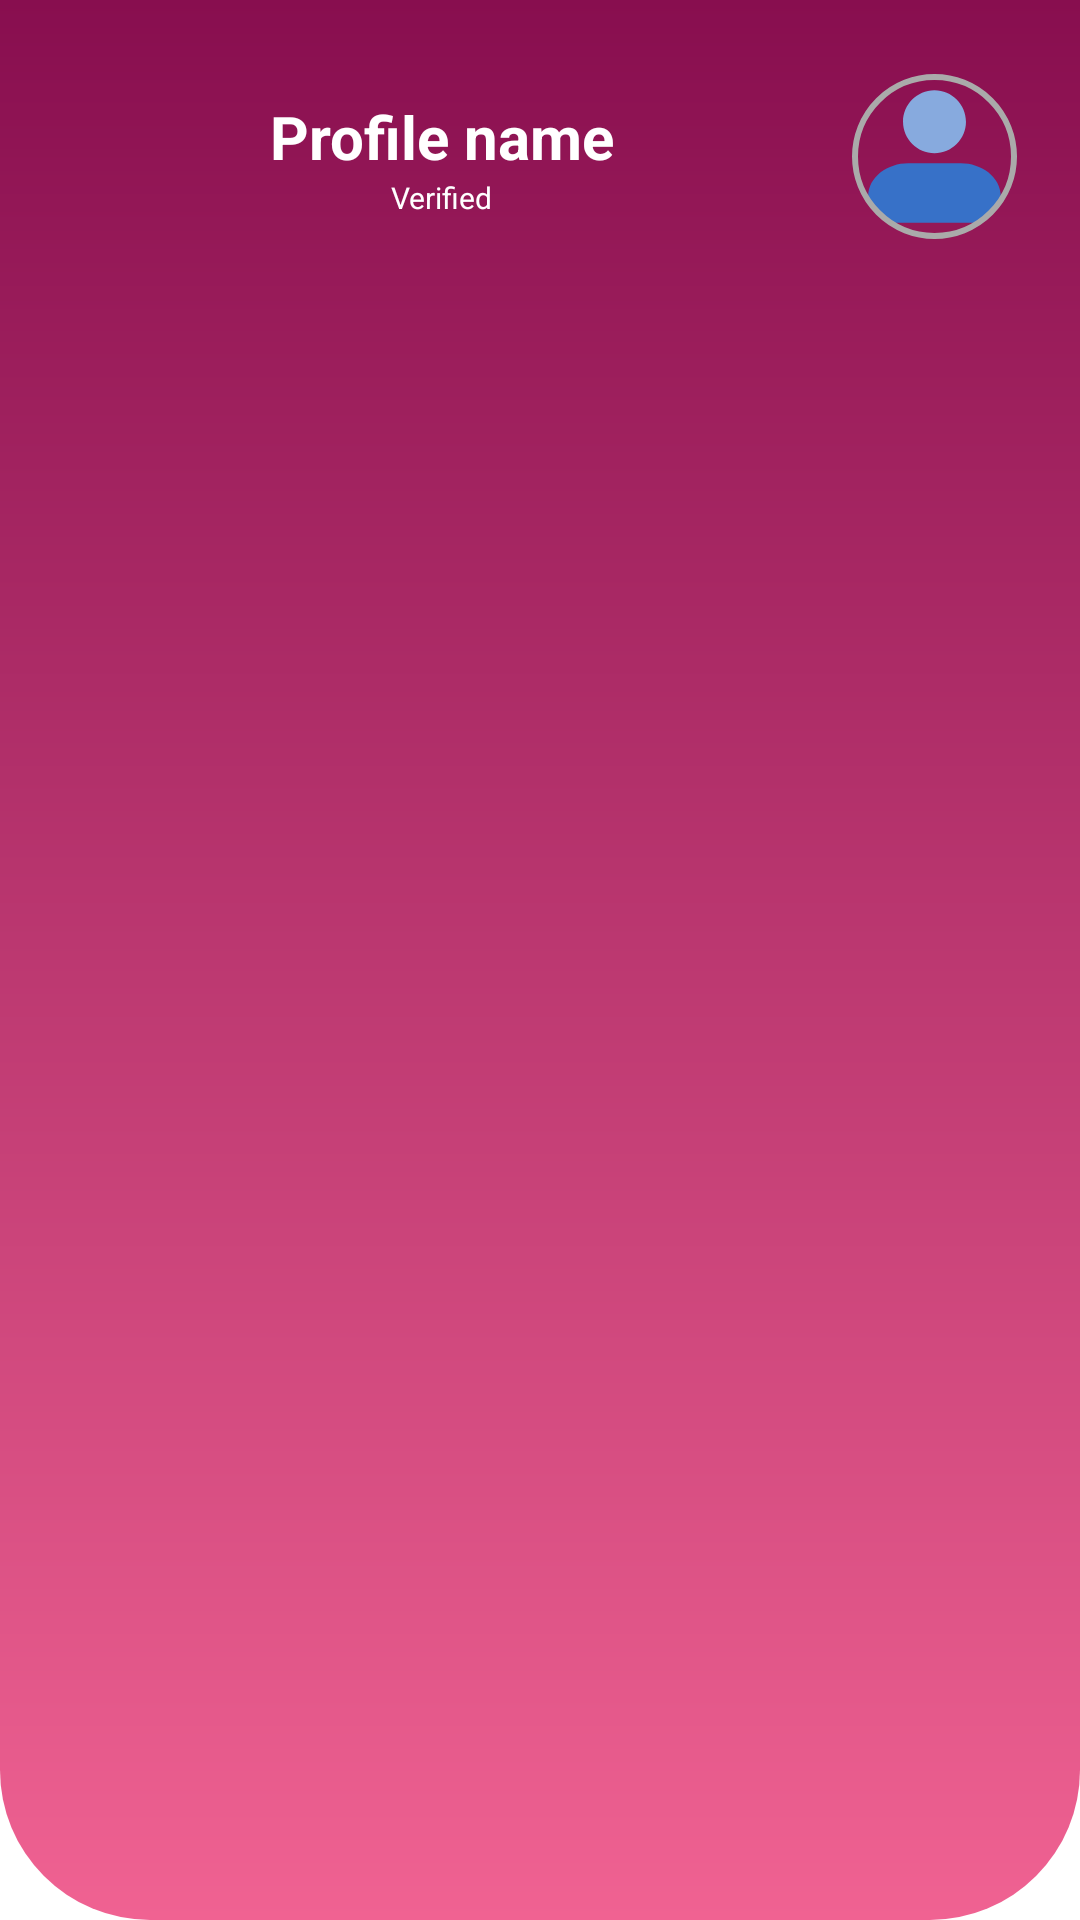

Icon bounding boxes for this 1080px×1920px phone screenshot, format bbox(x1, y1, x2, y2):
profile: bbox(852, 74, 1017, 239)
